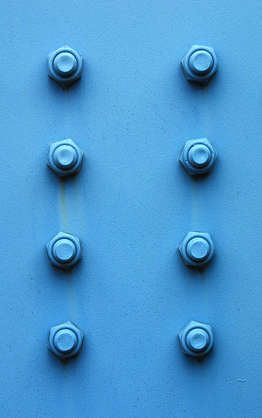bolt_b: (177, 134, 219, 181), (44, 41, 84, 89), (176, 317, 217, 362), (44, 229, 84, 274), (43, 320, 85, 362), (45, 137, 85, 180), (179, 43, 220, 84), (176, 229, 216, 271)
